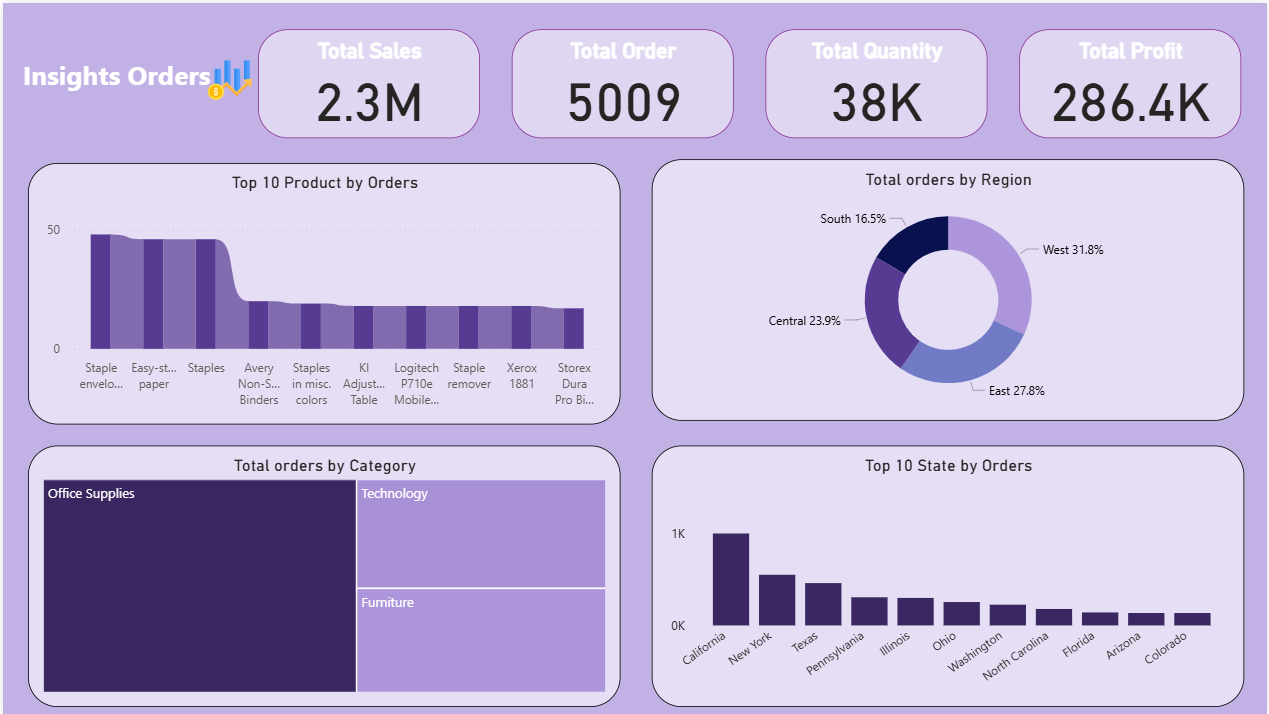

Layout of this report page (visuals, bound fields, positions):
{"tool":"powerbi","page":{"name":"Page 5","canvas":[1280,720],"ordinal":4},"visuals":[{"type":"card","title":"Total Order","fields":{"Values":["Dax_Measure.Total orders"]},"box":[515.7,27,225,110],"z":0},{"type":"card","title":"Total Sales","fields":{"Values":["Dax_Measure.Total Sales"]},"box":[258.8,27,225,110],"z":1},{"type":"card","title":"Total Quantity","fields":{"Values":["Dax_Measure.Total Quantity"]},"box":[772.7,27,225,110],"z":2},{"type":"card","title":"Total Profit","fields":{"Values":["Dax_Measure.Total Profit"]},"box":[1029.7,27,225,110],"z":3},{"type":"donutChart","fields":{"Y":["Dax_Measure.Total orders"],"Category":["CustomerDim.Region"]},"box":[657.5,158,600,265],"z":4},{"type":"ribbonChart","title":"Top 10 Product by Orders","fields":{"Category":["ProductDim.Product Name"],"Y":["Dax_Measure.Total orders"]},"box":[25.3,162,600,265],"z":5},{"type":"textbox","box":[0,49.4,230.4,63.3],"z":6},{"type":"columnChart","title":"Top 10 State by Orders","fields":{"Y":["Dax_Measure.Total orders"],"Category":["CustomerDim.State"]},"box":[657.5,447.6,600,265],"z":7},{"type":"treemap","fields":{"Values":["Dax_Measure.Total orders"],"Group":["ProductDim.Category Hierarchy.Category","ProductDim.Category Hierarchy.Sub-Category","ProductDim.Category Hierarchy.Product Name"]},"box":[25,448,600,265],"z":8},{"type":"image","box":[202.5,49.4,54.4,58.2],"z":9}]}

Visuals, with their boxes in screenshot pixels (x1, y1, x2, y2), scaled from the page's 1280x720 canvas onto the 1269x714 screenshot:
"Total Order" card: bbox(511, 27, 734, 136)
"Total Sales" card: bbox(257, 27, 480, 136)
"Total Quantity" card: bbox(766, 27, 989, 136)
"Total Profit" card: bbox(1021, 27, 1244, 136)
donutChart - Dax_Measure.Total orders x CustomerDim.Region: bbox(652, 157, 1247, 419)
"Top 10 Product by Orders" ribbonChart: bbox(25, 161, 620, 423)
textbox: bbox(0, 49, 228, 112)
"Top 10 State by Orders" columnChart: bbox(652, 444, 1247, 707)
treemap - Dax_Measure.Total orders x ProductDim.Category Hierarchy.Category: bbox(25, 444, 620, 707)
image: bbox(201, 49, 255, 107)
